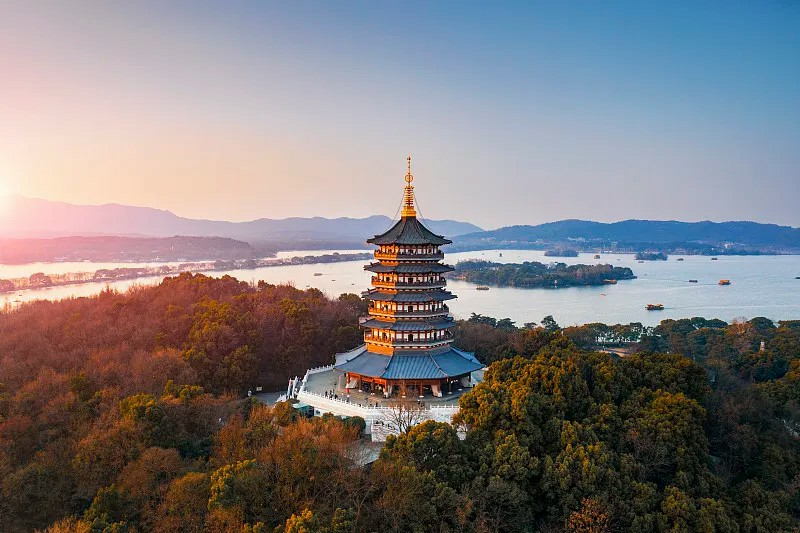Leifeng: (330, 154, 484, 401)
